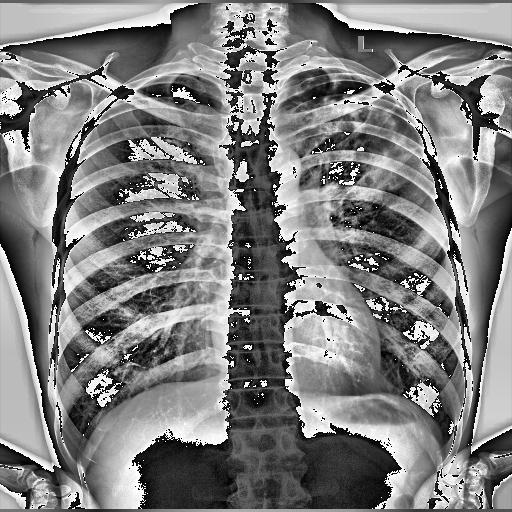13- Pulmonary fibrosis: (288, 72, 426, 209), (289, 66, 417, 204), (283, 75, 419, 200)
7- Lung Opacity: (288, 72, 426, 209)
